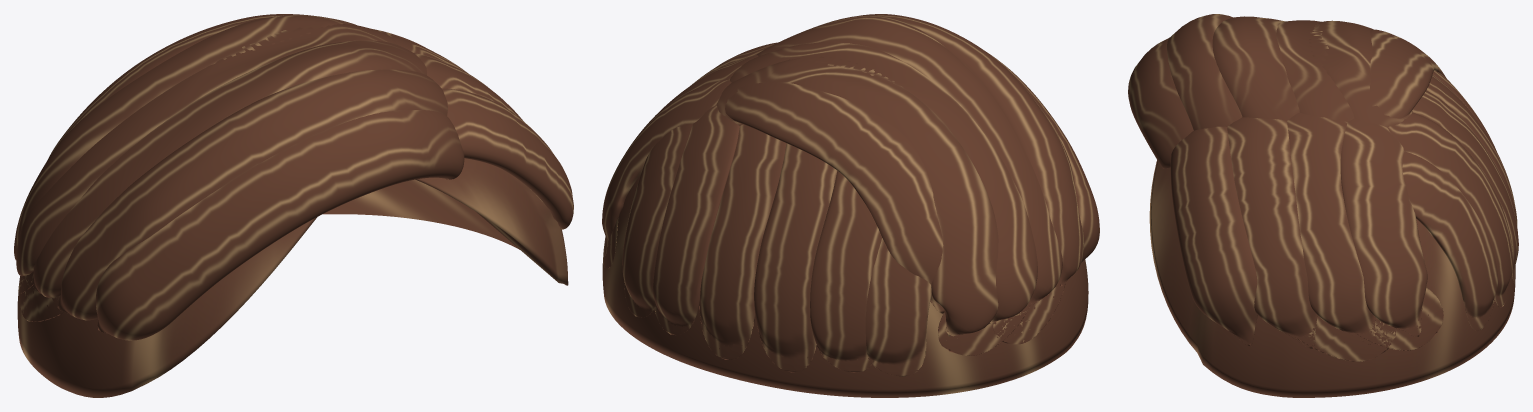
File: Highlights-988428c4273d252-hair.glb
The picture shows the model from 3 angles, left to right: view 1: azimuth 30°, elevation 25°; view 2: azimuth 150°, elevation 25°; view 3: azimuth 270°, elevation 25°; orthographic projection. The views are drawn at different scales.
Parts seen in each view (by area): view 1: 226 hair / Hair / sculpted 0.001, 226 hair / Hair / sculpted 1.001, 226 hair / Hair / sculpted 1.002, 226 hair / Hair / sculpted 2.001; view 2: 226 hair / Hair / sculpted 1.001, 226 hair / Hair / sculpted 0.001, 226 hair / Hair / sculpted 2.001, 226 hair / Hair / sculpted 1.002; view 3: 226 hair / Hair / sculpted 0.001, 226 hair / Hair / sculpted 1.001, 226 hair / Hair / sculpted 2.001, 226 hair / Hair / sculpted 1.002.
Part boxes in pixels (<box>): 226 hair / Hair / sculpted 0.001: <box>16,24,573,340</box>; 226 hair / Hair / sculpted 1.001: <box>14,14,523,322</box>; 226 hair / Hair / sculpted 1.002: <box>17,158,568,397</box>; 226 hair / Hair / sculpted 2.001: <box>31,33,468,297</box>; 226 hair / Hair / sculpted 1.001: <box>603,14,1083,372</box>; 226 hair / Hair / sculpted 0.001: <box>602,41,1099,376</box>; 226 hair / Hair / sculpted 2.001: <box>622,15,1062,372</box>; 226 hair / Hair / sculpted 1.002: <box>602,174,1088,397</box>; 226 hair / Hair / sculpted 0.001: <box>1128,20,1518,346</box>; 226 hair / Hair / sculpted 1.001: <box>1167,14,1513,361</box>; 226 hair / Hair / sculpted 2.001: <box>1212,16,1517,344</box>; 226 hair / Hair / sculpted 1.002: <box>1149,160,1515,397</box>.
Bounding box in the file's own units: 0.9759 × 0.5554 × 0.7604.
4 materials, 4 textured.
